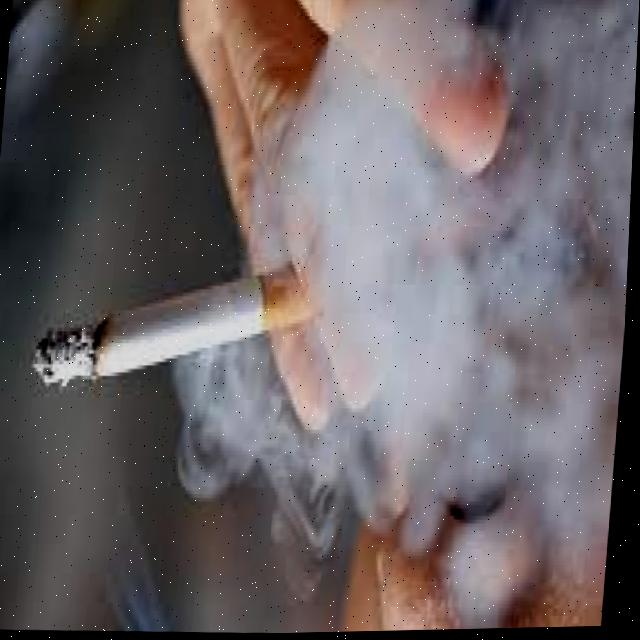cigarette: (31, 270, 317, 385)
